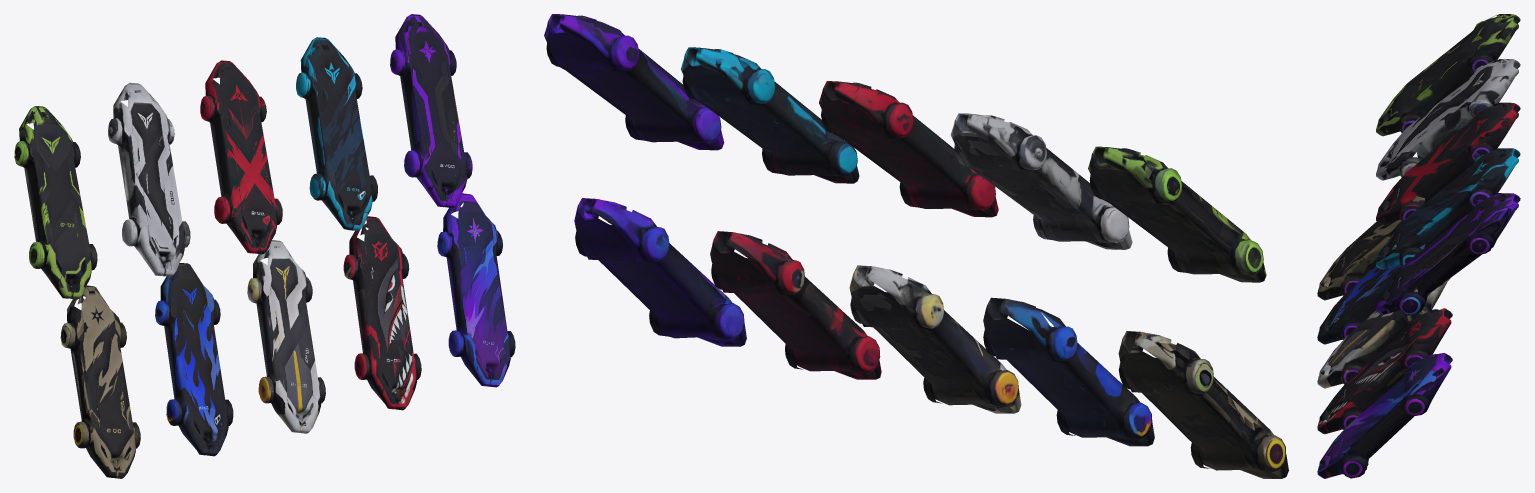
Rendered from skateboard.glb.
3 renders of one model, left to right at view 1: azimuth 30°, elevation 25°; view 2: azimuth 150°, elevation 25°; view 3: azimuth 270°, elevation 25°, orthographic. The views are drawn at different scales.
Parts seen in each view (by area): view 1: tripo_38550d73_286e_431c_80fd_e7cc45f8796b; view 2: tripo_38550d73_286e_431c_80fd_e7cc45f8796b; view 3: tripo_38550d73_286e_431c_80fd_e7cc45f8796b.
Part boxes in pixels (bbox=[...]): tripo_38550d73_286e_431c_80fd_e7cc45f8796b: bbox=[14, 14, 515, 478]; tripo_38550d73_286e_431c_80fd_e7cc45f8796b: bbox=[544, 14, 1288, 478]; tripo_38550d73_286e_431c_80fd_e7cc45f8796b: bbox=[1317, 14, 1520, 478].
Size of the model in its own units: 0.9995 by 0.6069 by 0.3843.
Materials: 1 (1 with a texture image).
